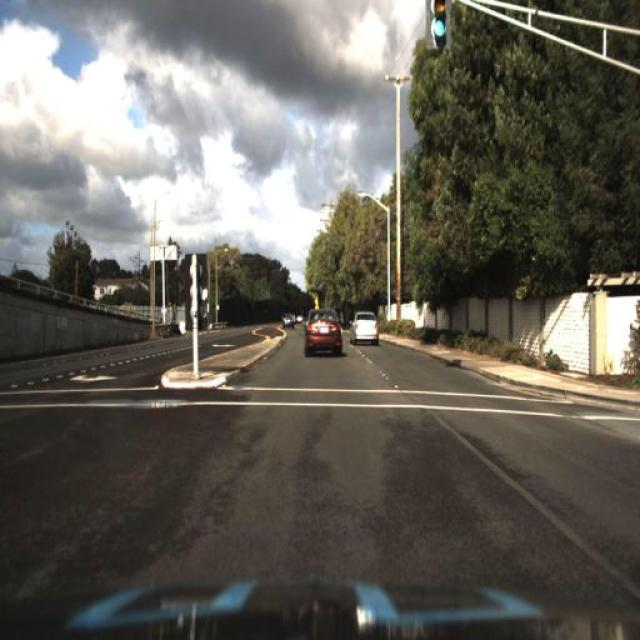car: (296, 302, 346, 362), (350, 305, 380, 346), (280, 308, 296, 332)
